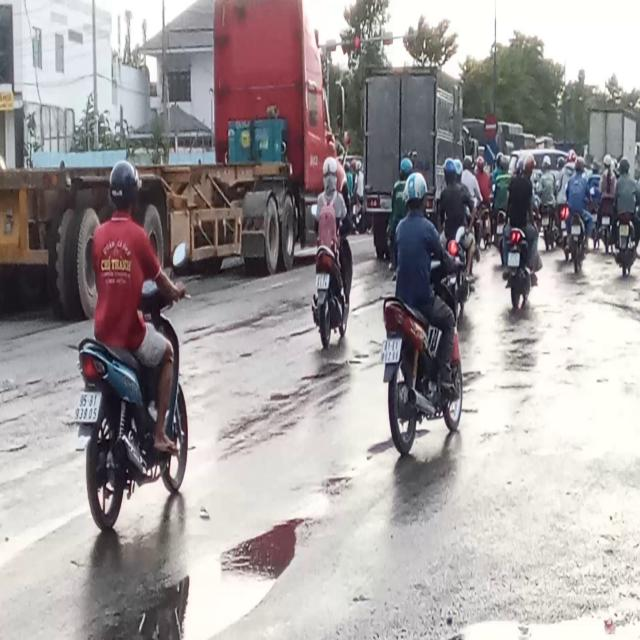bien_trang: (73, 383, 104, 421), (381, 331, 402, 363)
